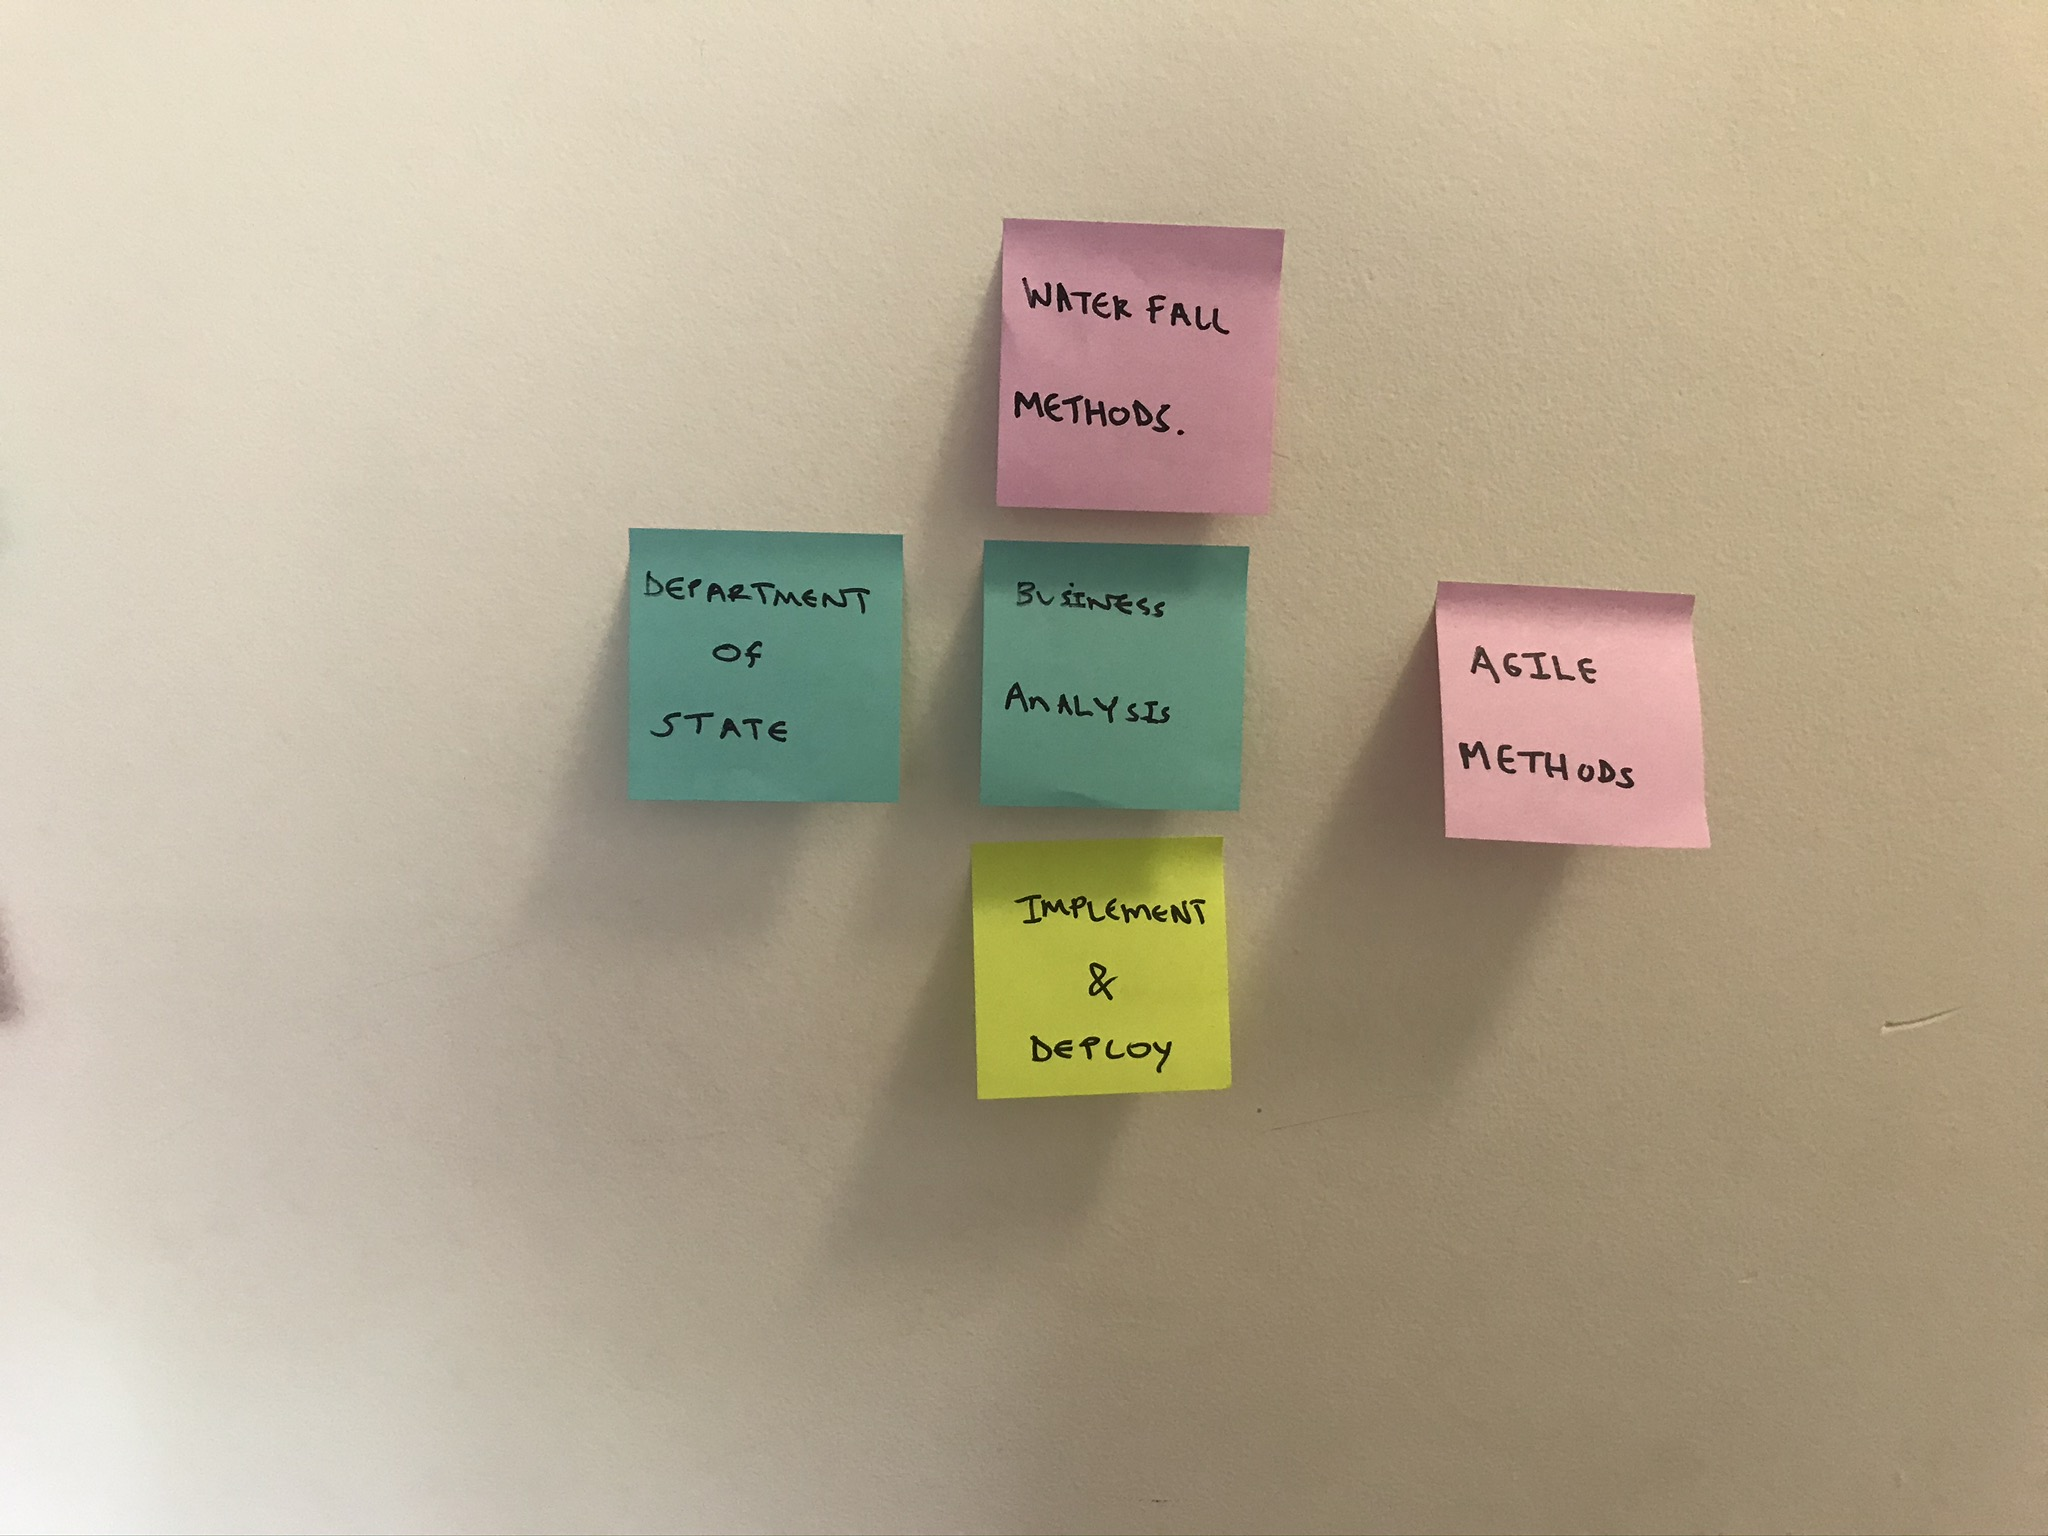sticky: (993, 216, 1285, 511), (626, 526, 906, 805), (977, 536, 1251, 813), (1434, 579, 1709, 850), (972, 834, 1237, 1100)
